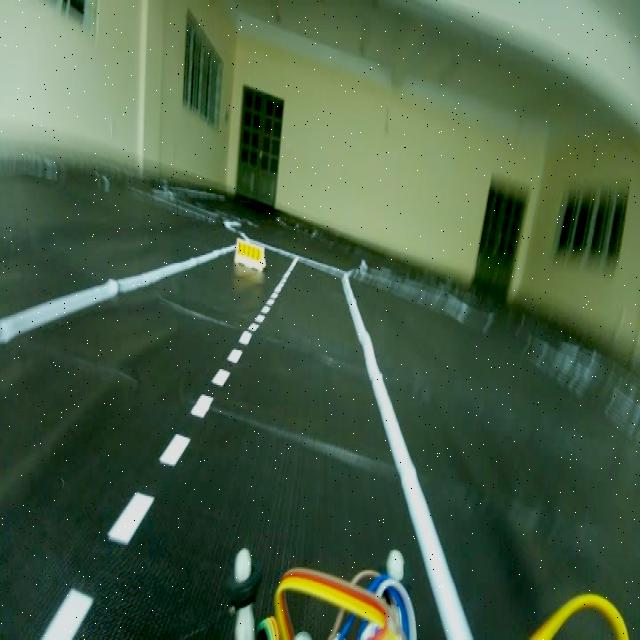roadblock: (231, 235, 268, 272)
